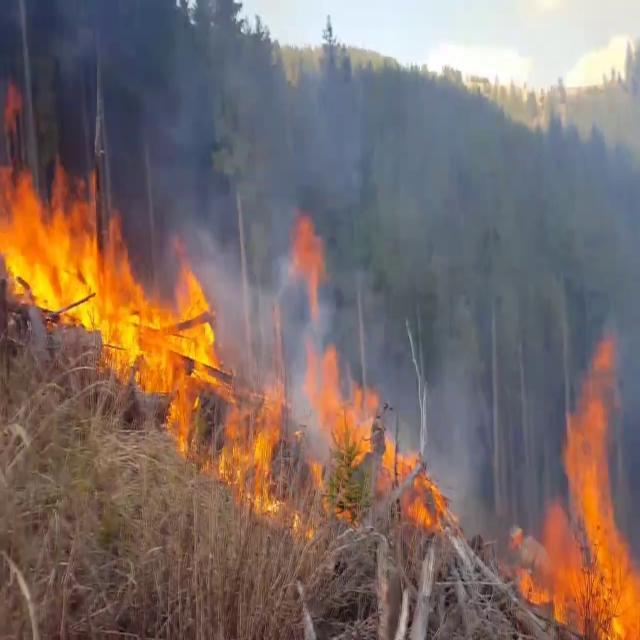Fire: (0, 130, 220, 424), (514, 328, 640, 638), (288, 204, 386, 486), (214, 366, 290, 517), (382, 426, 450, 540)
